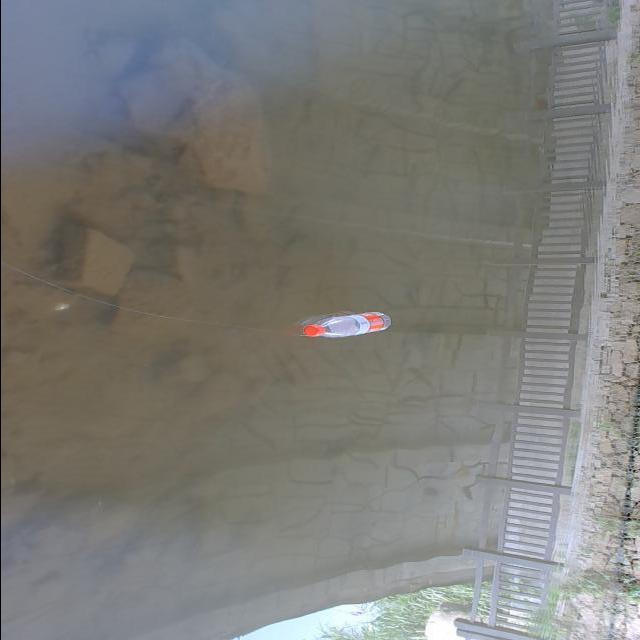Bottle: (296, 302, 392, 349)
